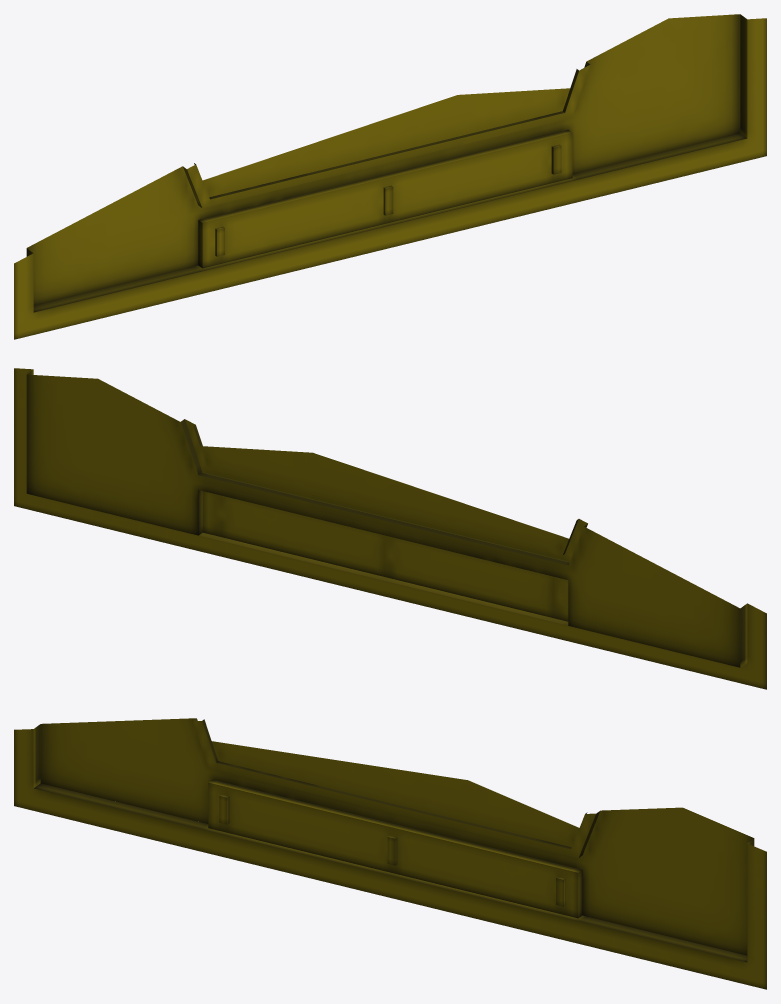
File: sc_finalBoss_slideDoorA_destroyed_A.FBX
The picture shows the model from 3 angles, top to bottom: view 1: azimuth 30°, elevation 25°; view 2: azimuth 150°, elevation 25°; view 3: azimuth 330°, elevation 25°; orthographic projection.
Visible parts, largest first — view 1: finalBoss_slideDoorA_destroyed_A; view 2: finalBoss_slideDoorA_destroyed_A; view 3: finalBoss_slideDoorA_destroyed_A.
Part boxes in pixels (x1,y1,x2,y2): finalBoss_slideDoorA_destroyed_A: [14, 14, 766, 339]; finalBoss_slideDoorA_destroyed_A: [14, 368, 766, 689]; finalBoss_slideDoorA_destroyed_A: [14, 718, 766, 989].
Size of the model in its own units: 24.99 by 4.91 by 0.4074.
